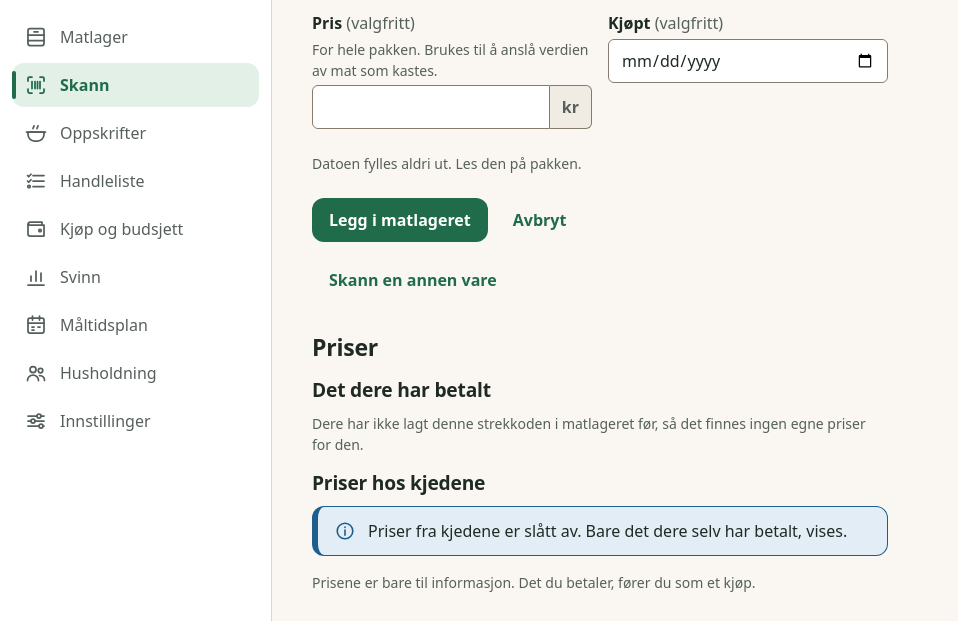
FR-SCAN-002/-005 from lookup to the pantry › nothing is sent while required fields are missing
The image size is (958, 621).
(page scrolled)
Click the button "Legg i matlageret" at (400, 220), box [312,198,488,242]
(page scrolled)
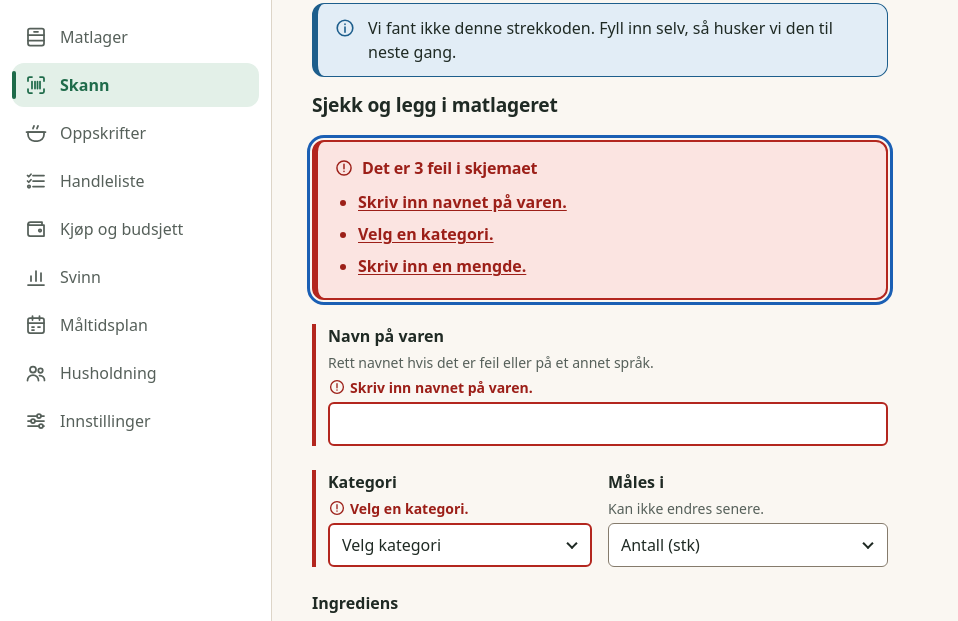
Expected: the message "feil" shows "Skriv inn navnet på varen.", [358,186,567,218]
Expected: the message "feil" shows "Velg en kategori.", [358,218,494,250]
